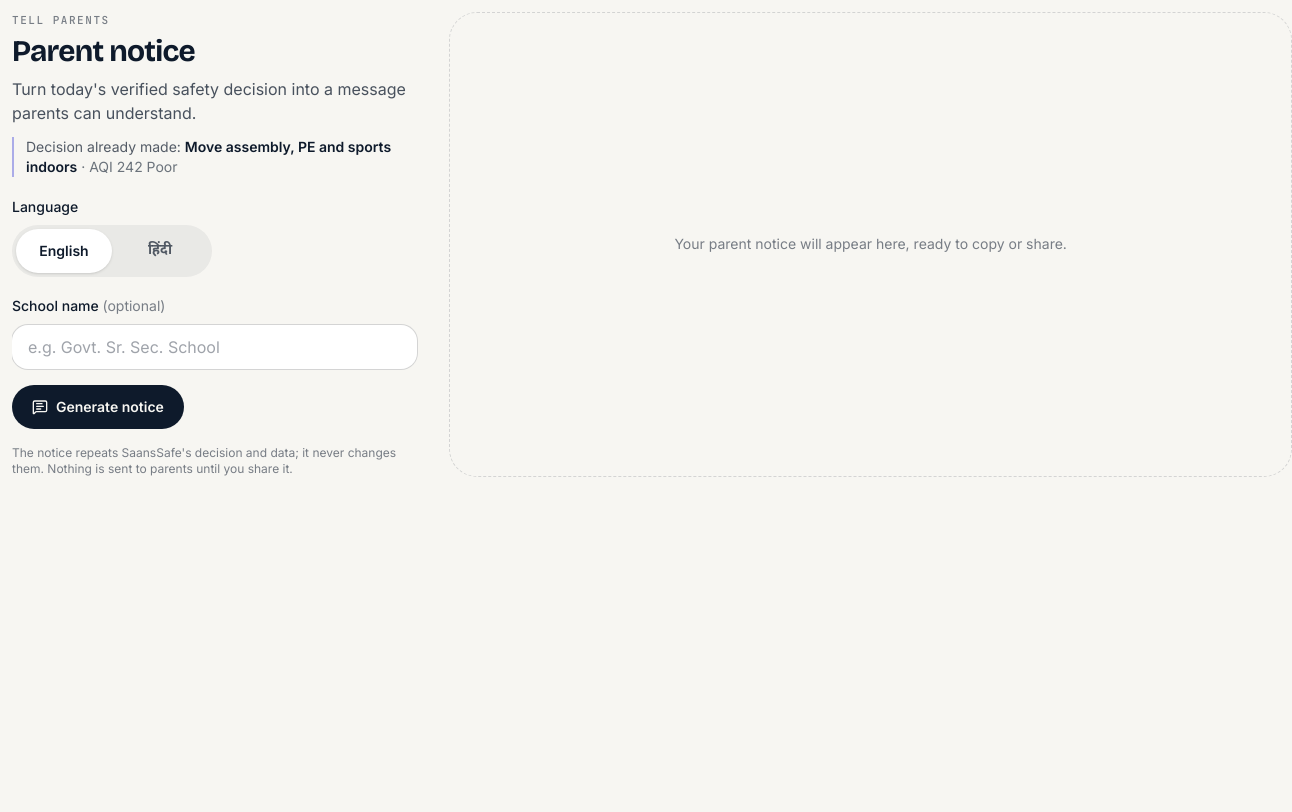
Test: ParentNotice › sends the optional school name, trimmed
Step 1. Type "  St. Mary's School  " into the field labelled "School name (optional)" → x=215, y=346, box [12,324,417,368]
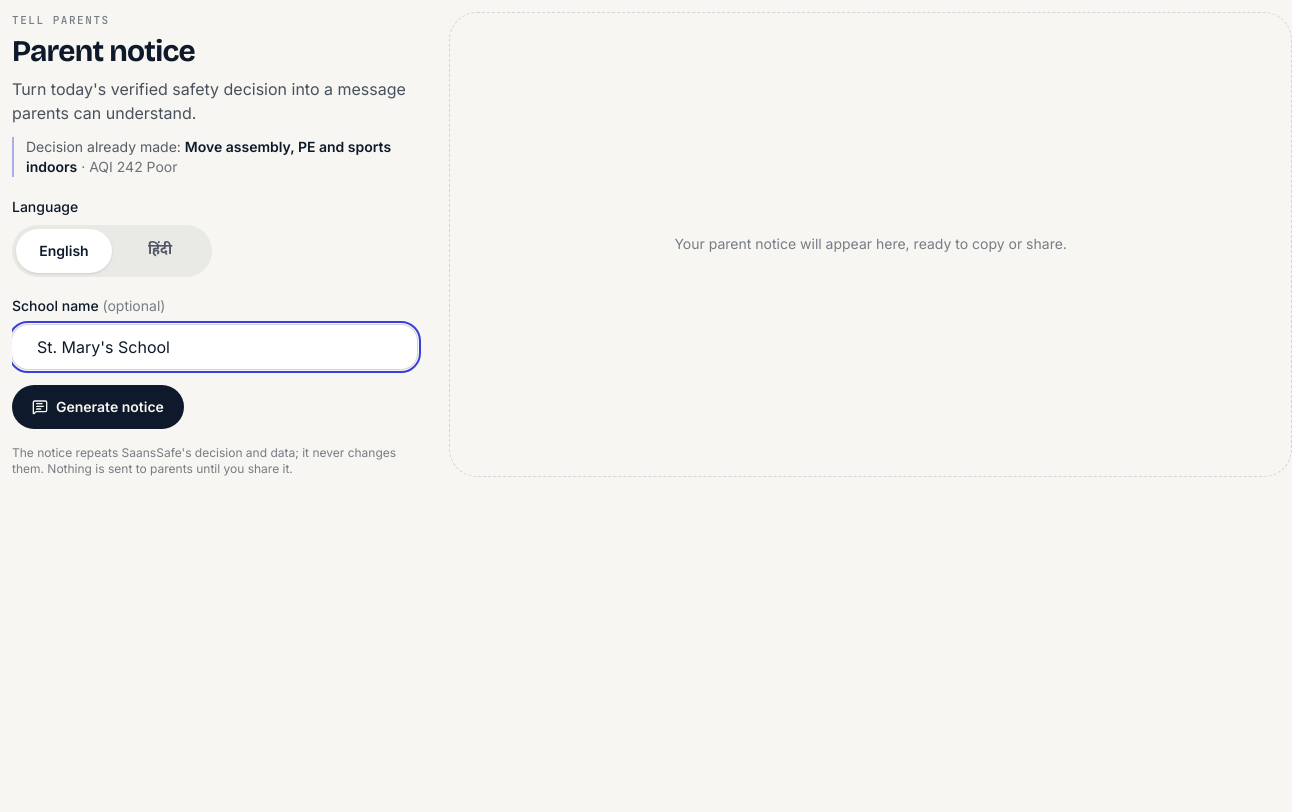
Step 2. Click the button "Generate notice" → x=98, y=406, box [12,384,184,428]
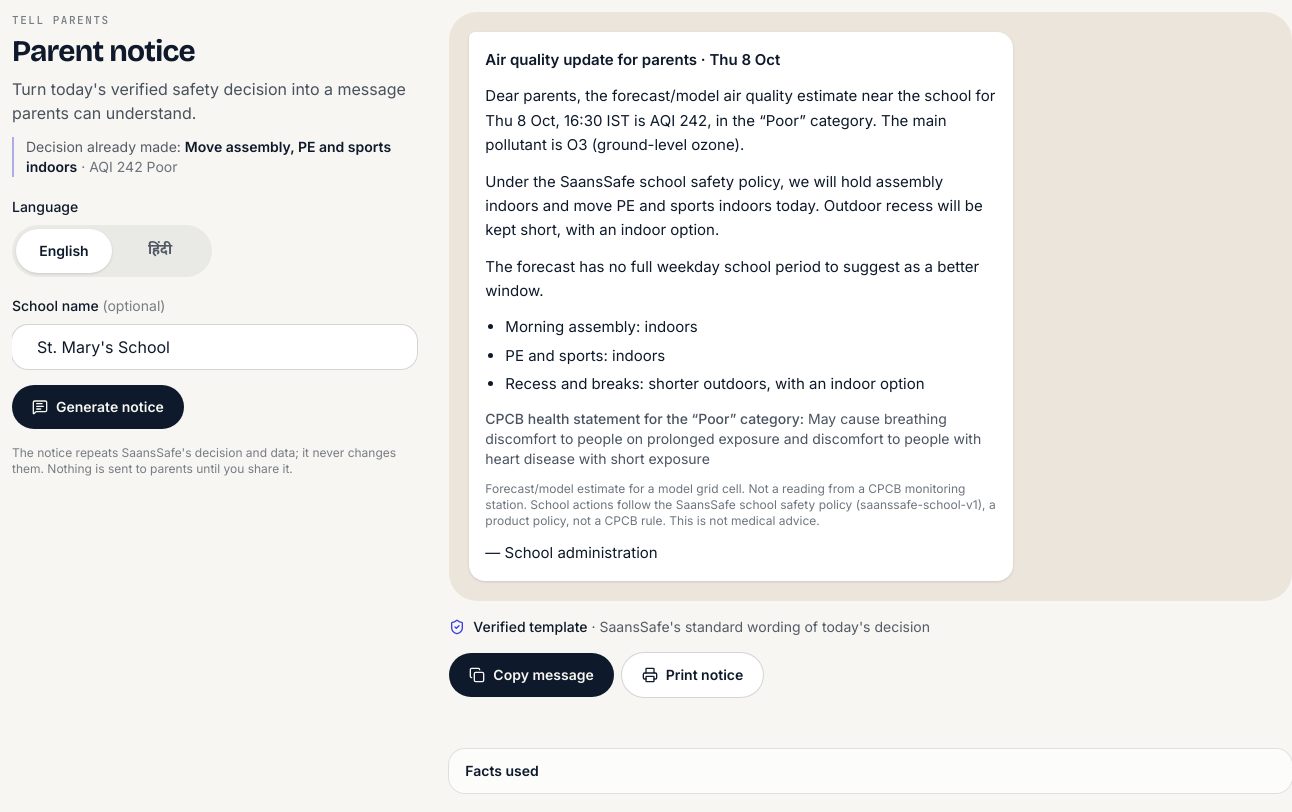
expect the element with test id "notice-bubble" is shown: met, box [469,32,1013,581]
